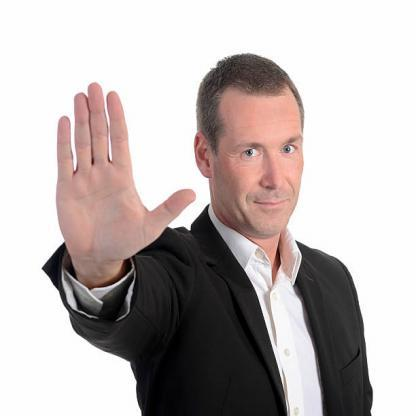stop: (53, 80, 196, 270)
